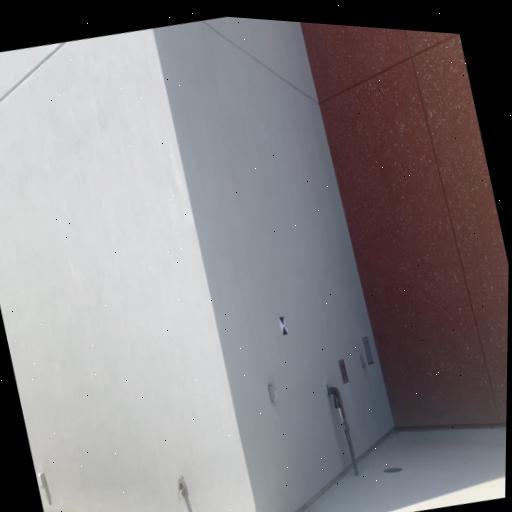target5: (279, 315, 289, 337)
